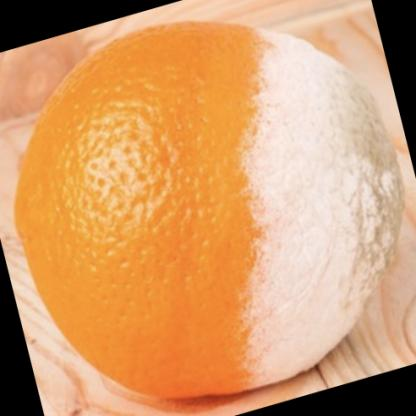rotten: (23, 27, 396, 397)
